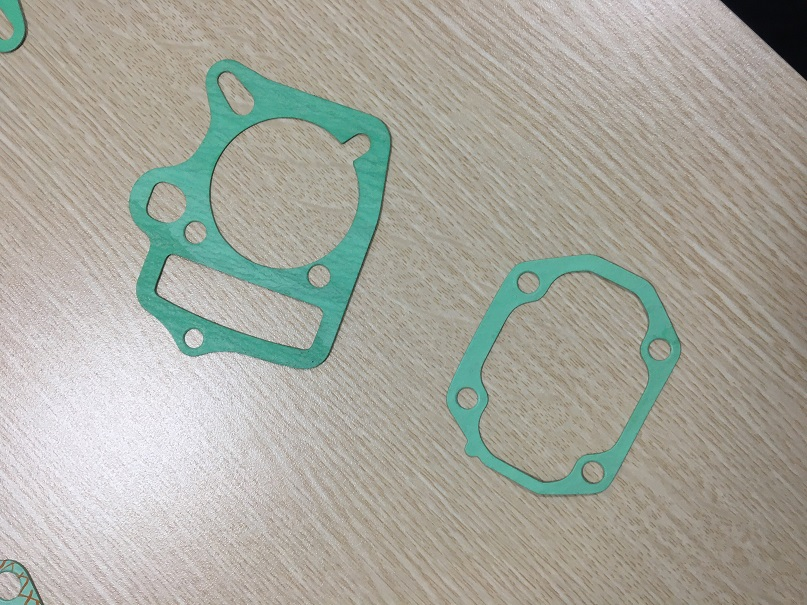type2: (436, 247, 686, 507)
type4: (105, 49, 396, 376)
